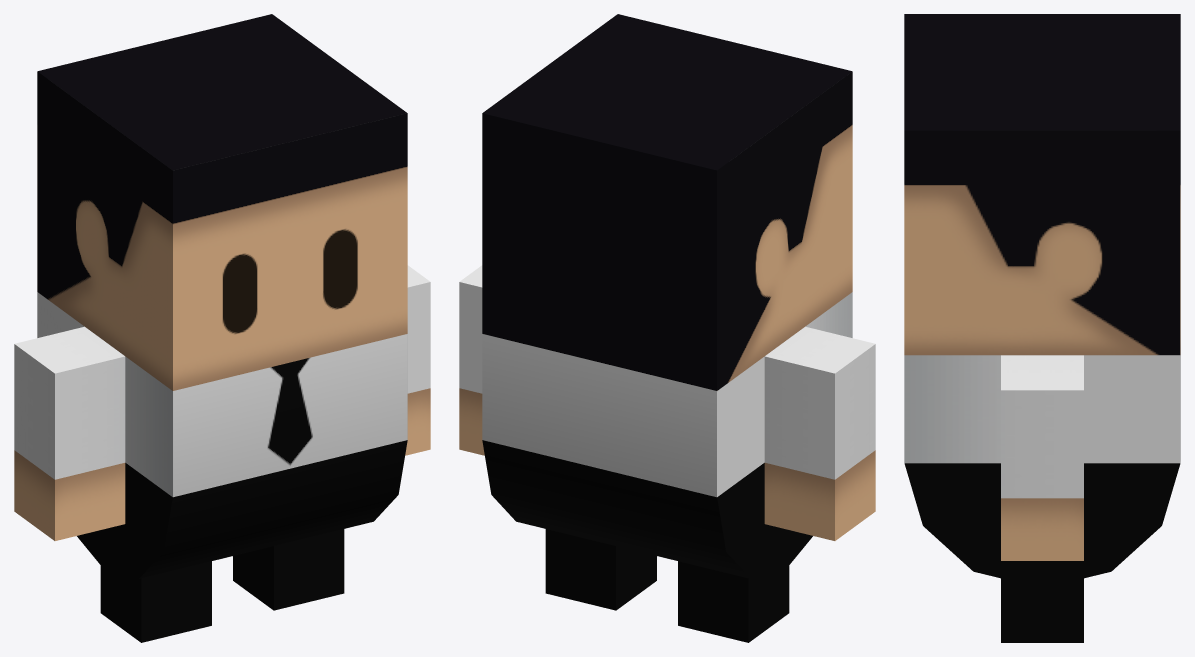
The model's file is Ch001@jump.FBX.
3 views of the same model, side by side, from view 1: azimuth 30°, elevation 25°; view 2: azimuth 150°, elevation 25°; view 3: azimuth 270°, elevation 25° (orthographic).
Visible parts, largest first — view 1: Box01; view 2: Box01; view 3: Box01.
Part boxes in pixels (x1,y1,x2,y2): Box01: (14,14,430,642); Box01: (459,14,875,642); Box01: (904,14,1180,642).
Size of the model in its own units: 0.8 by 0.5 by 1.04.
